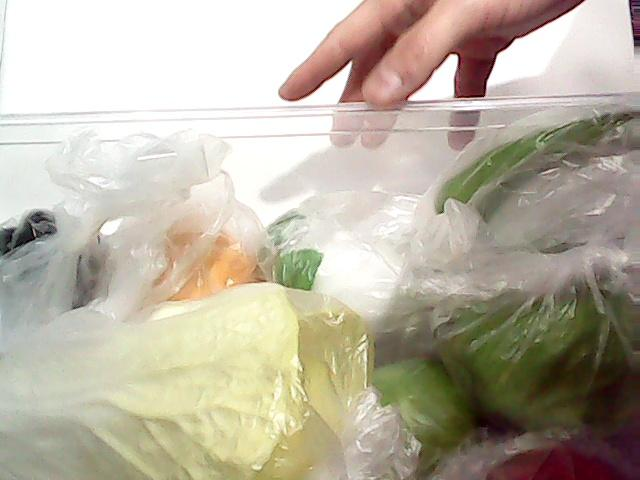apple: (365, 355, 479, 449), (487, 444, 640, 480)
cabbage: (439, 256, 640, 426)
grape: (0, 179, 80, 283)
lemon: (116, 195, 280, 304)
napa cabbage: (0, 290, 366, 480)
pepper: (412, 83, 640, 242)
radish: (268, 194, 424, 342)
